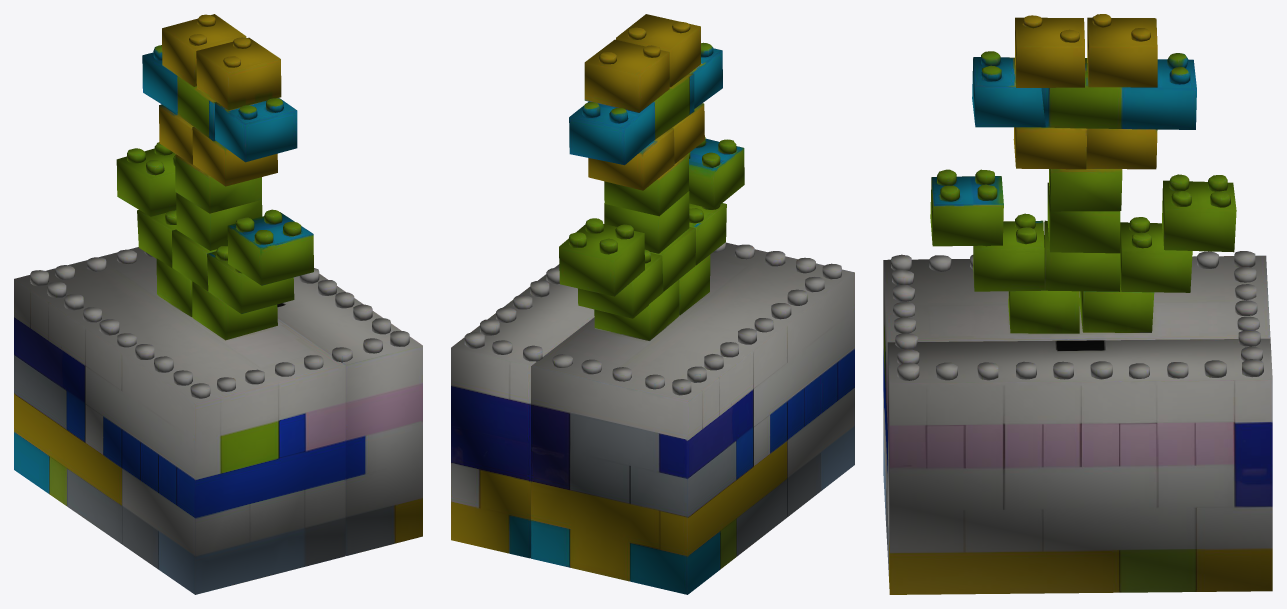
File: object_9_asset_5c400204.glb
3 renders of one model, left to right at view 1: azimuth 30°, elevation 25°; view 2: azimuth 150°, elevation 25°; view 3: azimuth 270°, elevation 25°, orthographic. The views are drawn at different scales.
Parts seen in each view (by area): view 1: tripo_node_0876cd22-60a7-478c-b941-663225b2466f; view 2: tripo_node_0876cd22-60a7-478c-b941-663225b2466f; view 3: tripo_node_0876cd22-60a7-478c-b941-663225b2466f.
Boxes of the visible parts, box(x1,y1,x2,y2) form: tripo_node_0876cd22-60a7-478c-b941-663225b2466f: box(14, 14, 422, 594); tripo_node_0876cd22-60a7-478c-b941-663225b2466f: box(451, 14, 854, 594); tripo_node_0876cd22-60a7-478c-b941-663225b2466f: box(883, 14, 1272, 594).
Size of the model in its own units: 0.541 by 0.998 by 0.6934.
Materials: 1 (1 with a texture image).
